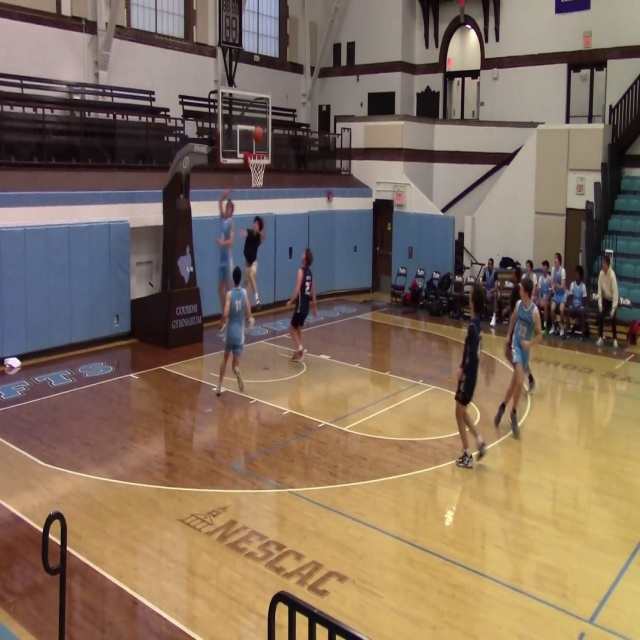Basketball: (4, 357, 21, 369), (252, 126, 264, 142), (224, 200, 234, 219)
